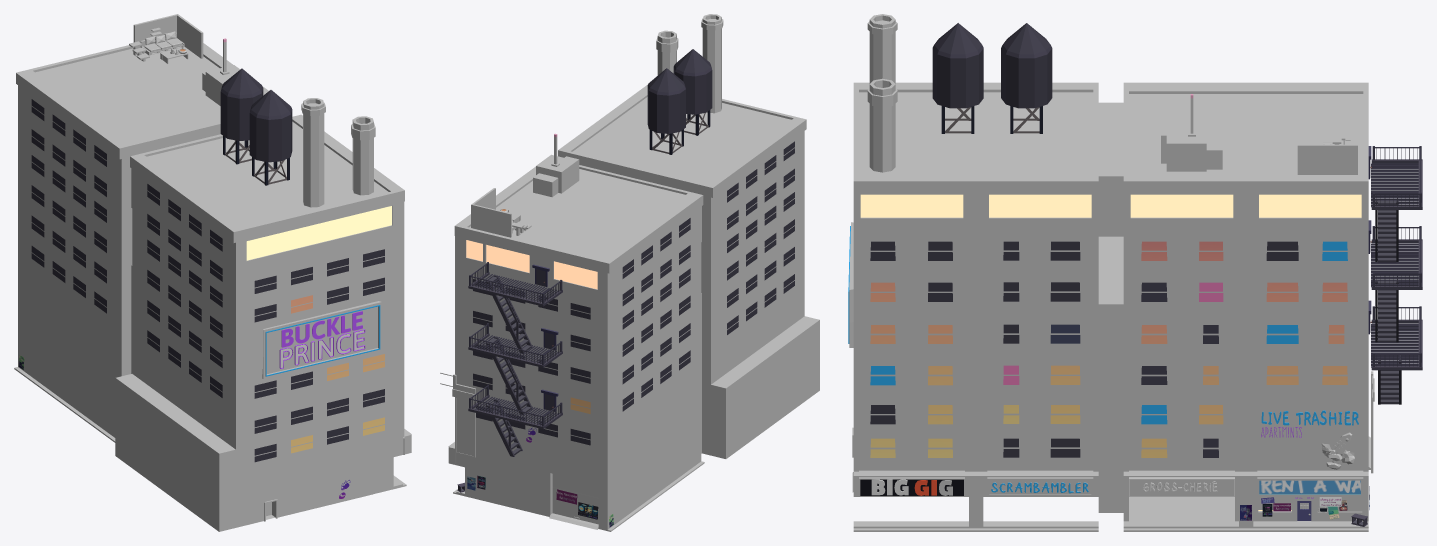
Rendered from DBLiveTrashierApartmint.fbx.
3 views of the same model, side by side, from view 1: azimuth 30°, elevation 25°; view 2: azimuth 150°, elevation 25°; view 3: azimuth 270°, elevation 25° (orthographic). The views are drawn at different scales.
Parts seen in each view (by area): view 1: ApartMint, Windows.106, BucklePrinceSign.005, Windows.108, Windows.109, RoofWaterTopping.001, RoofWaterTopping.002, Walls.058, RoofTopping.001, BigSitter; view 2: ApartMint, Windows.109, Windows.108, Windows.110, RoofWaterTopping.002, RoofWaterTopping.001, RoofTopping.001, FixitSign, Walls.058, RightBuildingStairs.012, RightBuildingStairs.004, RightBuildingStairs.009 (+9 smaller); view 3: ApartMint, Windows.107, Windows.105, ApartMintUndivider, RoofWaterTopping.001, RoofWaterTopping.002, RoofTopping.001, ApartmintsSign, Walls.058, RightBuildingStairs.012, RightBuildingStairs.004, RightBuildingStairs.009 (+6 smaller).
Boxes of the visible parts, bbox=[...] form: ApartMint: bbox=[14, 43, 411, 531]; Windows.106: bbox=[253, 248, 385, 463]; BucklePrinceSign.005: bbox=[262, 301, 381, 379]; Windows.108: bbox=[146, 182, 222, 399]; Windows.109: bbox=[31, 98, 107, 314]; RoofWaterTopping.001: bbox=[249, 90, 292, 185]; RoofWaterTopping.002: bbox=[220, 68, 263, 164]; Walls.058: bbox=[133, 14, 203, 58]; RoofTopping.001: bbox=[202, 38, 239, 105]; BigSitter: bbox=[140, 31, 184, 55]; ApartMint: bbox=[448, 14, 819, 531]; Windows.109: bbox=[622, 216, 690, 412]; Windows.108: bbox=[726, 140, 795, 336]; Windows.110: bbox=[472, 278, 591, 446]; RoofWaterTopping.002: bbox=[647, 68, 685, 154]; RoofWaterTopping.001: bbox=[673, 49, 712, 135]; RoofTopping.001: bbox=[533, 133, 579, 197]; FixitSign: bbox=[440, 372, 475, 457]; Walls.058: bbox=[471, 188, 511, 237]; RightBuildingStairs.012: bbox=[476, 274, 559, 301]; RightBuildingStairs.004: bbox=[476, 396, 559, 424]; RightBuildingStairs.009: bbox=[475, 335, 557, 363]; ApartMint: bbox=[852, 14, 1370, 531]; Windows.107: bbox=[870, 241, 1080, 457]; Windows.105: bbox=[1141, 241, 1347, 457]; ApartMintUndivider: bbox=[1098, 236, 1123, 512]; RoofWaterTopping.001: bbox=[932, 23, 983, 133]; RoofWaterTopping.002: bbox=[1001, 23, 1052, 133]; RoofTopping.001: bbox=[1161, 94, 1222, 171]; ApartmintsSign: bbox=[1261, 410, 1358, 469]; Walls.058: bbox=[1297, 120, 1357, 174]; RightBuildingStairs.012: bbox=[1371, 163, 1418, 207]; RightBuildingStairs.004: bbox=[1371, 324, 1418, 367]; RightBuildingStairs.009: bbox=[1371, 243, 1418, 287].
Size of the model in its own units: 4206 by 7933 by 8854.
